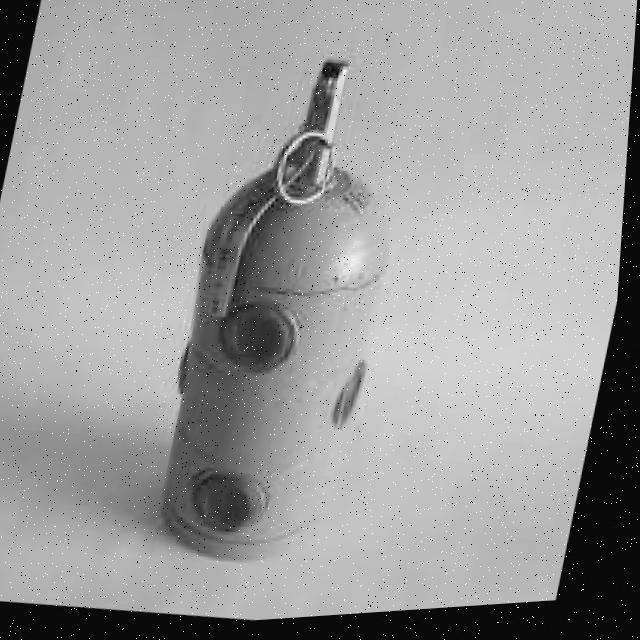grenade: (139, 40, 443, 583)
